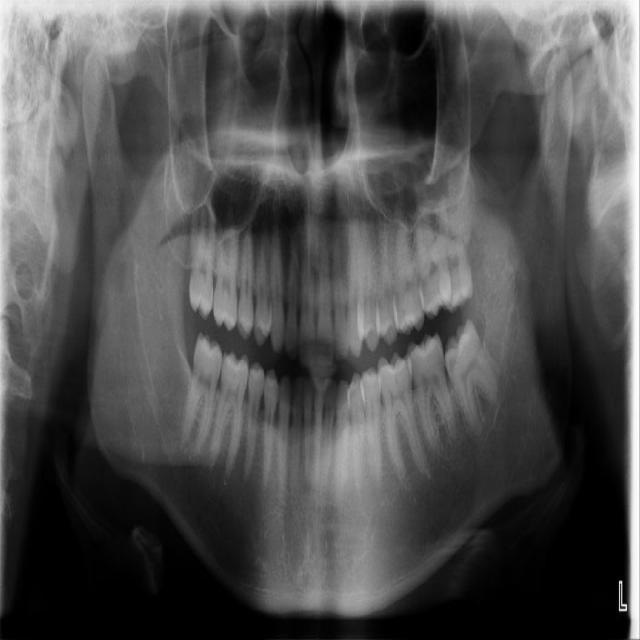73: (619, 596, 626, 606)
BioHorizons Implant: (414, 196, 454, 319)
BioLife Implant: (434, 189, 474, 313)
Biomet 3i Implant: (430, 316, 516, 440)
Blue Sky Bio Implant: (402, 330, 463, 459)
Caries: (188, 197, 218, 320)
Implant: (179, 331, 226, 453)
